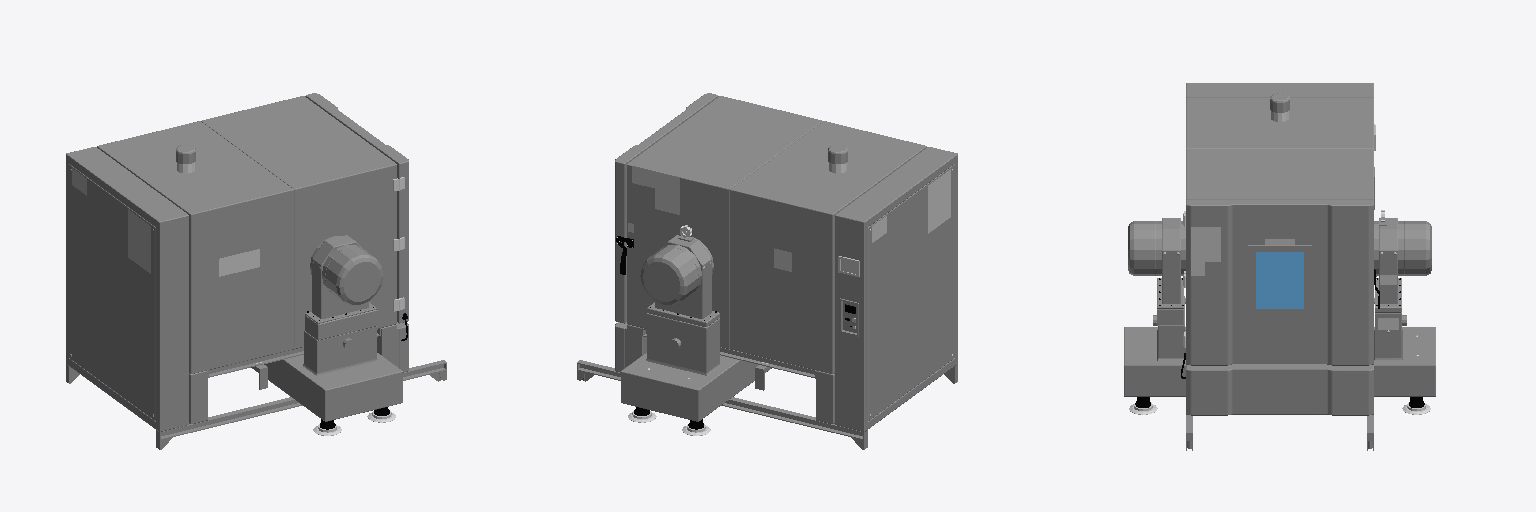
Rendered from 23WXSZZT.obj.
3 views of the same model, side by side, from view 1: azimuth 30°, elevation 25°; view 2: azimuth 150°, elevation 25°; view 3: azimuth 270°, elevation 25° (orthographic).
Parts seen in each view (by area): view 1: Matel_02, Tex, Matel_01; view 2: Matel_02, Tex, Matel_01, Matel_05; view 3: Matel_02, Glass, Tex, Matel_01.
Part boxes in pixels (bbox=[...]): Matel_02: bbox=[66, 93, 446, 449]; Tex: bbox=[72, 168, 259, 276]; Matel_01: bbox=[70, 162, 404, 435]; Matel_02: bbox=[577, 93, 957, 449]; Tex: bbox=[628, 166, 950, 328]; Matel_01: bbox=[617, 162, 952, 435]; Matel_05: bbox=[616, 236, 855, 429]; Matel_02: bbox=[1124, 83, 1435, 450]; Glass: bbox=[1256, 252, 1303, 308]; Tex: bbox=[1191, 124, 1398, 329]; Matel_01: bbox=[1129, 111, 1430, 414].
Bounding box in the file's own units: 95.87 × 79.36 × 89.93.